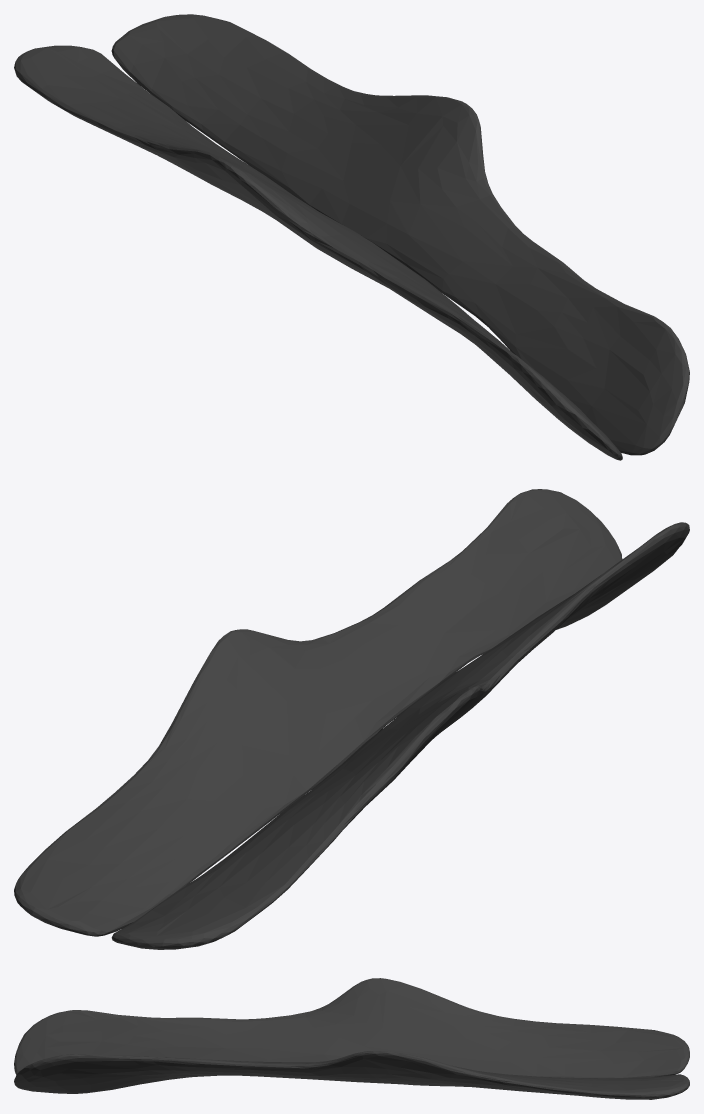
The model's file is thoracolumbar_fascia.glb.
3 renders of one model, top to bottom at view 1: azimuth 30°, elevation 25°; view 2: azimuth 150°, elevation 25°; view 3: azimuth 270°, elevation 25°, orthographic. The views are drawn at different scales.
Visible parts, largest first — view 1: thoracolumbar_fascia; view 2: thoracolumbar_fascia; view 3: thoracolumbar_fascia.
Boxes of the visible parts, x1,y1,x2,y2 form: thoracolumbar_fascia: (14, 14, 689, 460); thoracolumbar_fascia: (14, 489, 689, 949); thoracolumbar_fascia: (14, 978, 689, 1099).
Size of the model in its own units: 0.00324 by 0.00159 by 0.0124.
1 material, 1 textured.
